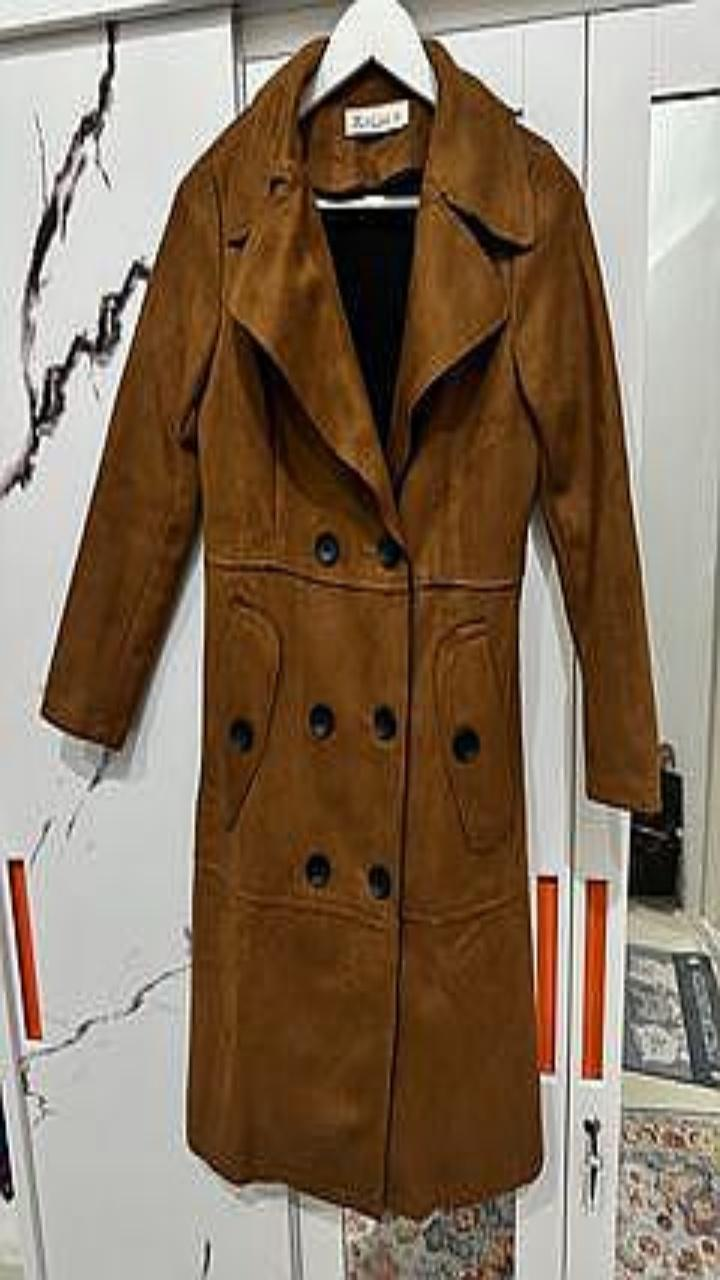Coat: (41, 36, 659, 1217)
